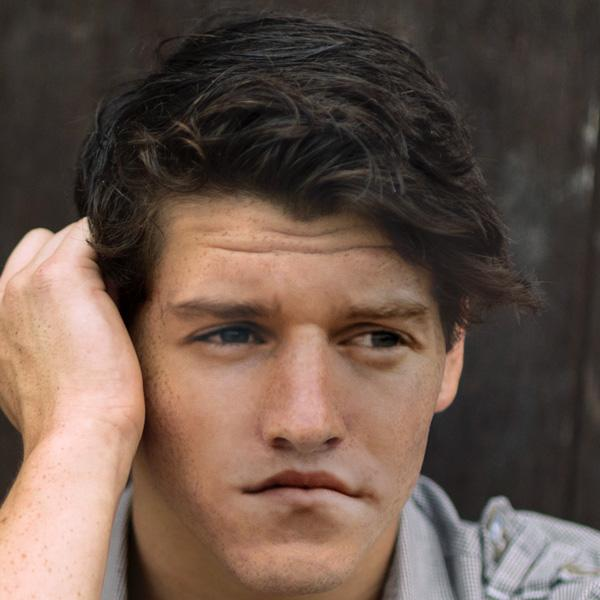Eyes: (175, 311, 272, 365), (329, 312, 424, 367)
